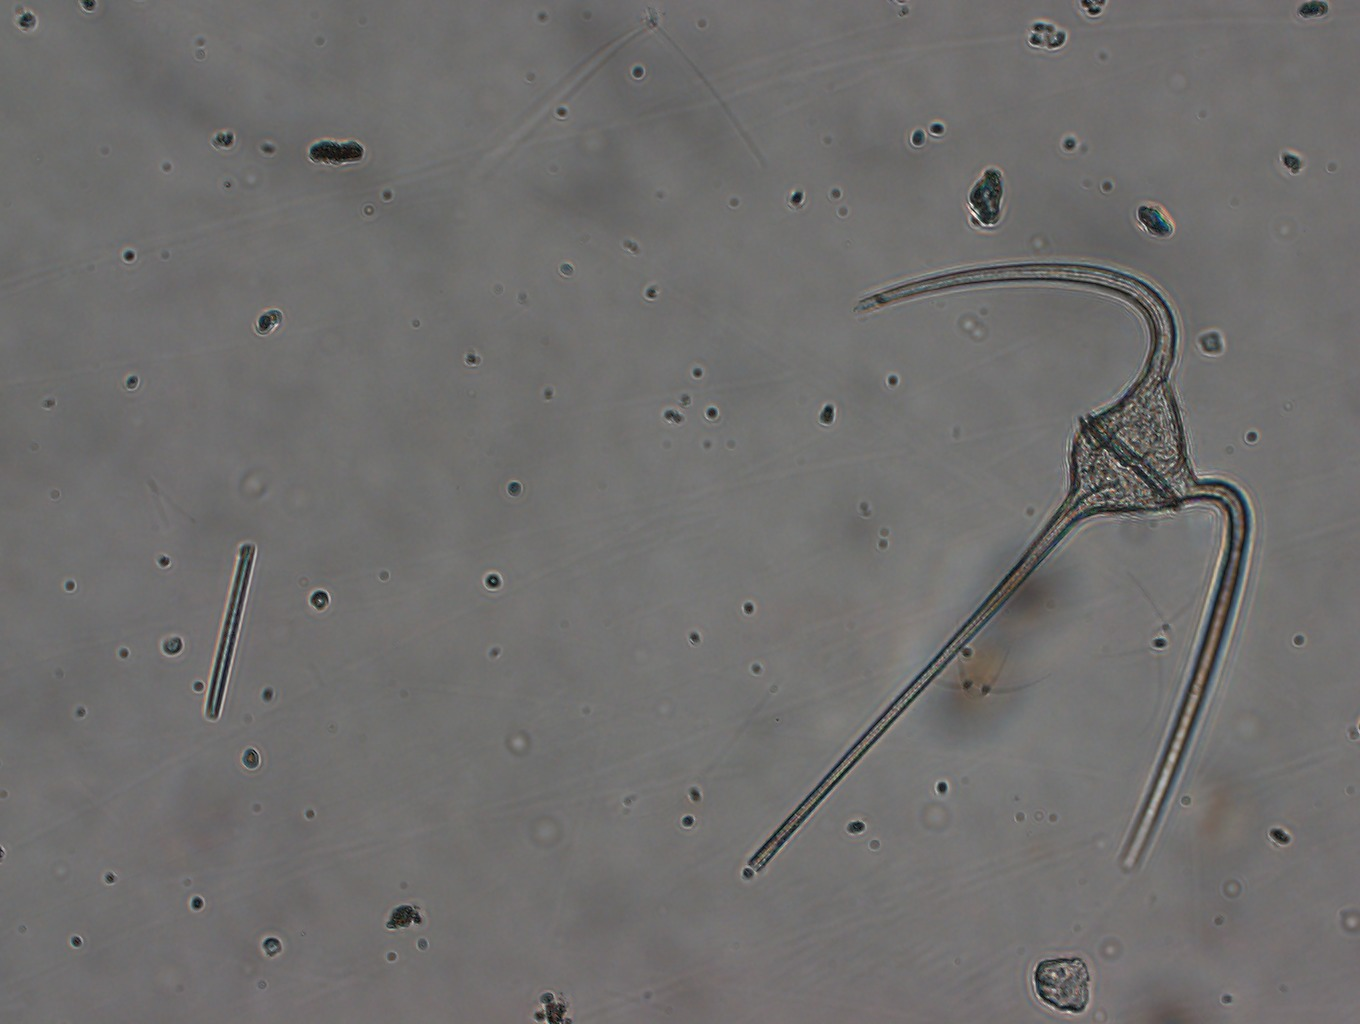ceratium trichoceros: (727, 248, 1261, 888)
